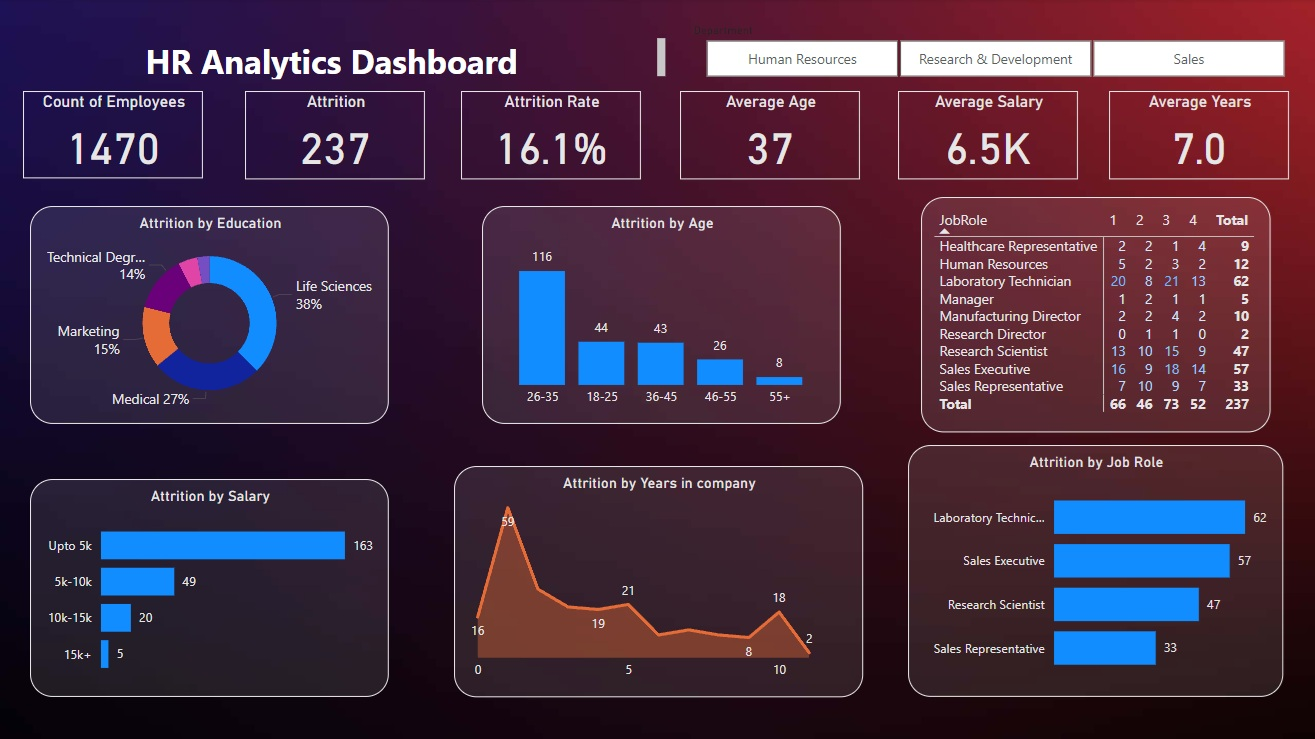

This screenshot's page, from the dashboard's own definition file:
{"tool":"powerbi","page":{"name":"Page 1","canvas":[1280,720],"ordinal":0},"visuals":[{"type":"card","title":"Count of Employees","fields":{"Values":["CountNonNull(HR_Analytics.EmpID)"]},"box":[22.4,89.5,175,85],"z":0},{"type":"card","title":"Attrition","fields":{"Values":["Sum(HR_Analytics.AttritionCount)"]},"box":[238.3,89.5,175.1,85.6],"z":1000},{"type":"card","title":"Attrition Rate","fields":{"Values":["HR_Analytics.AttritionRate"]},"box":[448.4,89.5,175.1,85.6],"z":2000},{"type":"card","title":"Average Age","fields":{"Values":["Avg(HR_Analytics.Age)"]},"box":[661.4,89.5,175.1,85.6],"z":3000},{"type":"card","title":"Average Salary","fields":{"Values":["Avg(HR_Analytics.MonthlyIncome)"]},"box":[873.4,89.5,175.1,85.6],"z":4000},{"type":"card","title":"Average Years","fields":{"Values":["Avg(HR_Analytics.YearsAtCompany)"]},"box":[1078.7,89.5,175.1,85.6],"z":5000},{"type":"donutChart","title":"Attrition by Education","fields":{"Y":["Sum(HR_Analytics.AttritionCount)"],"Category":["HR_Analytics.EducationField"]},"box":[29.2,201.4,349.2,212],"z":6000},{"type":"columnChart","title":"Attrition by Age","fields":{"Y":["Sum(HR_Analytics.AttritionCount)"],"Category":["HR_Analytics.AgeGroup"]},"box":[468.8,201.3,349.2,212],"z":7000},{"type":"pivotTable","fields":{"Rows":["HR_Analytics.JobRole"],"Columns":["HR_Analytics.JobSatisfaction"],"Values":["Sum(HR_Analytics.AttritionCount)"]},"box":[895.8,192.6,340.4,228.6],"z":8000},{"type":"barChart","title":"Attrition by Salary","fields":{"Category":["HR_Analytics.SalarySlab"],"Y":["Sum(HR_Analytics.AttritionCount)"]},"box":[29.2,466.9,349.2,212],"z":9000},{"type":"barChart","title":"Attrition by Job Role","fields":{"Y":["Sum(HR_Analytics.AttritionCount)"],"Category":["HR_Analytics.JobRole"]},"box":[883.2,433.8,364.7,245.1],"z":10000},{"type":"areaChart","title":"Attrition by Years in company","fields":{"Category":["HR_Analytics.YearsAtCompany"],"Y":["Sum(HR_Analytics.AttritionCount)"]},"box":[441.6,454.2,397.8,224.7],"z":11000},{"type":"slicer","fields":{"Values":["HR_Analytics.Department"]},"box":[661.4,19.5,611.8,63.2],"z":12000},{"type":"textbox","box":[136.2,33.1,516.5,49.6],"z":13000}]}

Visuals, with their boxes in screenshot pixels (x1, y1, x2, y2), scaled from the page's 1280x720 canvas onto the 1315x739 screenshot:
"Count of Employees" card: 23,92,203,179
"Attrition" card: 245,92,425,180
"Attrition Rate" card: 461,92,641,180
"Average Age" card: 679,92,859,180
"Average Salary" card: 897,92,1077,180
"Average Years" card: 1108,92,1288,180
"Attrition by Education" donutChart: 30,207,389,424
"Attrition by Age" columnChart: 482,207,840,424
pivotTable - HR_Analytics.JobRole x HR_Analytics.JobSatisfaction: 920,198,1270,432
"Attrition by Salary" barChart: 30,479,389,697
"Attrition by Job Role" barChart: 907,445,1282,697
"Attrition by Years in company" areaChart: 454,466,862,697
slicer - HR_Analytics.Department: 679,20,1308,85
textbox: 140,34,671,85
